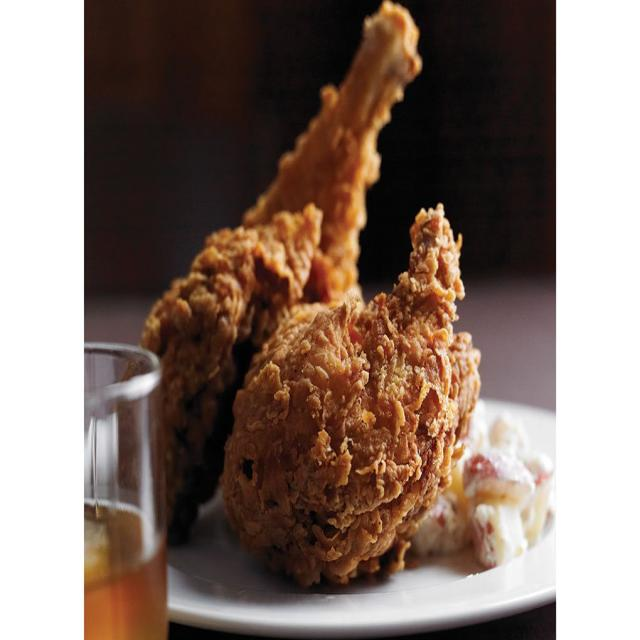Frango: (118, 0, 482, 588)
